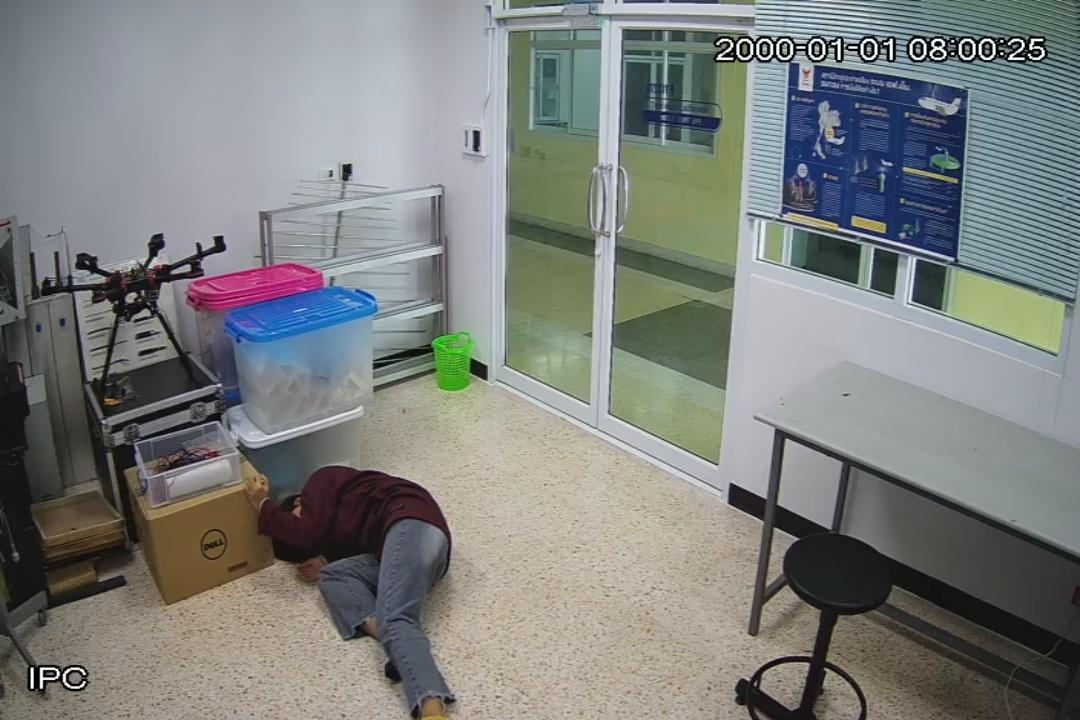fall: (234, 442, 470, 720)
